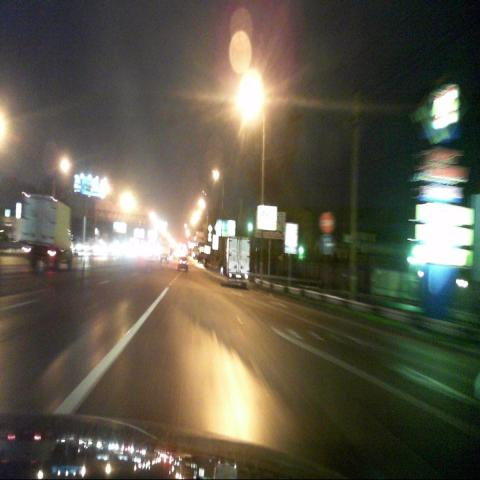2_5: (320, 213, 332, 233)
